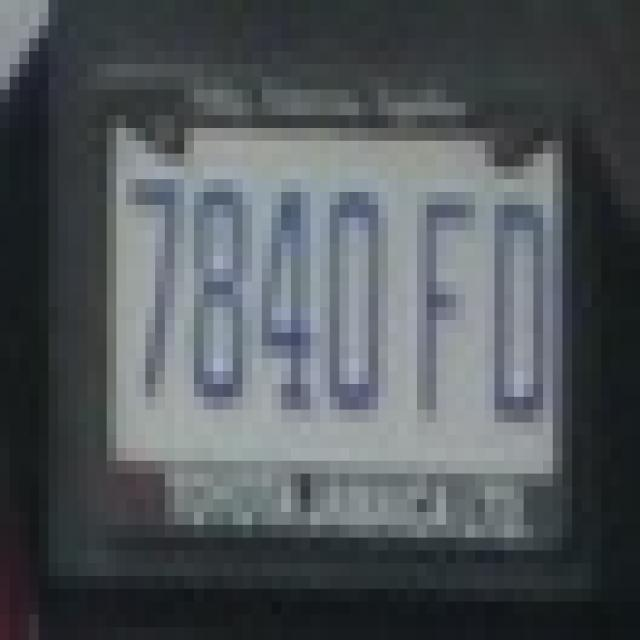licenseplate: (59, 52, 594, 550)
